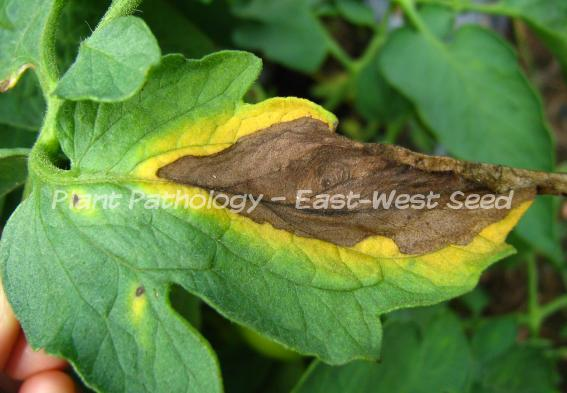Tomato Early blight leaf: (16, 34, 567, 382)
